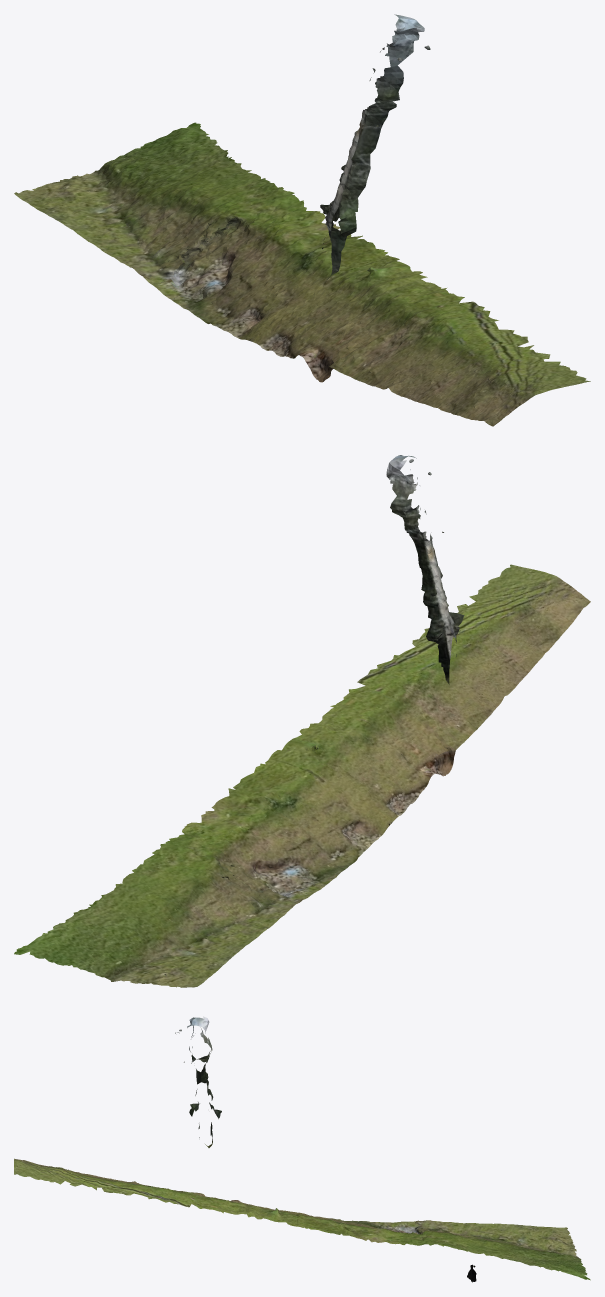
3 views of the same model, one above another, from view 1: azimuth 30°, elevation 25°; view 2: azimuth 150°, elevation 25°; view 3: azimuth 270°, elevation 25° (orthographic). The views are drawn at different scales.
Bounding box in the file's own units: 3.91 × 7.71 × 16.69.
Materials: 1 (1 with a texture image).
